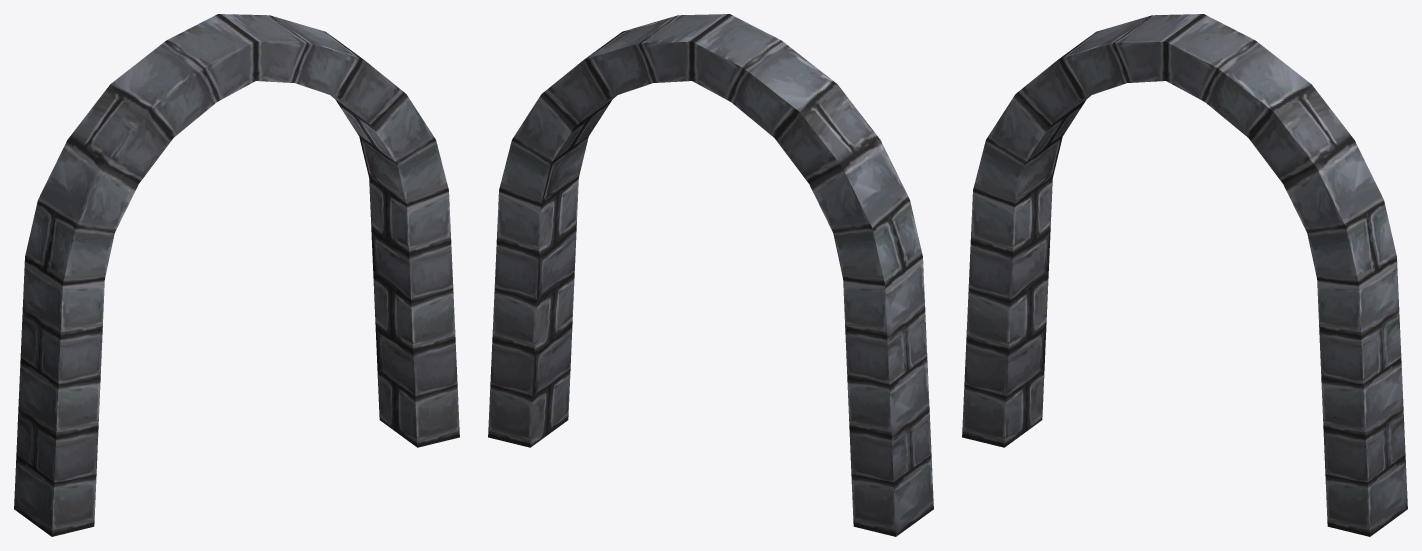
File: e_asset_door_frame_large.fbx
3 renders of one model, left to right at view 1: azimuth 30°, elevation 25°; view 2: azimuth 150°, elevation 25°; view 3: azimuth 330°, elevation 25°, orthographic.
Visible parts, largest first — view 1: polySurface2714; view 2: polySurface2714; view 3: polySurface2714.
Boxes of the visible parts, left/top/right/bottom form: polySurface2714: left=14, top=14, right=459, bottom=536; polySurface2714: left=488, top=14, right=933, bottom=536; polySurface2714: left=962, top=14, right=1407, bottom=536.
Size of the model in its own units: 4.78 by 4.99 by 0.7688.
